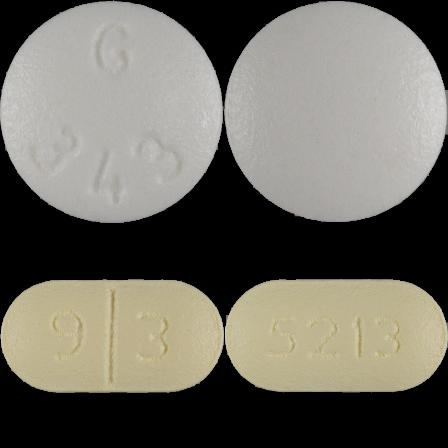0093-5208: (0, 0, 224, 224)
